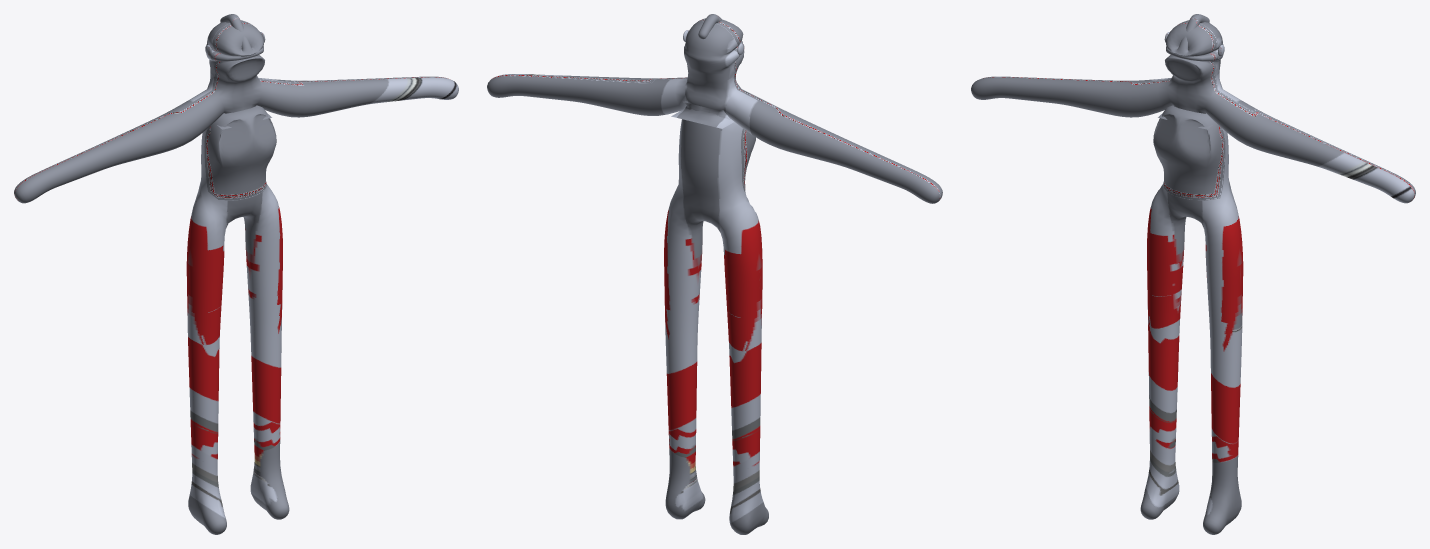
The model's file is Ultraman_Blender.obj.
3 renders of one model, left to right at view 1: azimuth 30°, elevation 25°; view 2: azimuth 150°, elevation 25°; view 3: azimuth 330°, elevation 25°, orthographic. The views are drawn at different scales.
Visible parts, largest first — view 1: UltramanClassic_skel; view 2: UltramanClassic_skel; view 3: UltramanClassic_skel.
Part boxes in pixels (left/top/right/bottom): UltramanClassic_skel: left=14, top=14, right=458, bottom=534; UltramanClassic_skel: left=487, top=14, right=942, bottom=534; UltramanClassic_skel: left=971, top=14, right=1415, bottom=534.
Bounding box in the file's own units: 1.63 × 1.77 × 0.2305.
1 material, 1 textured.
